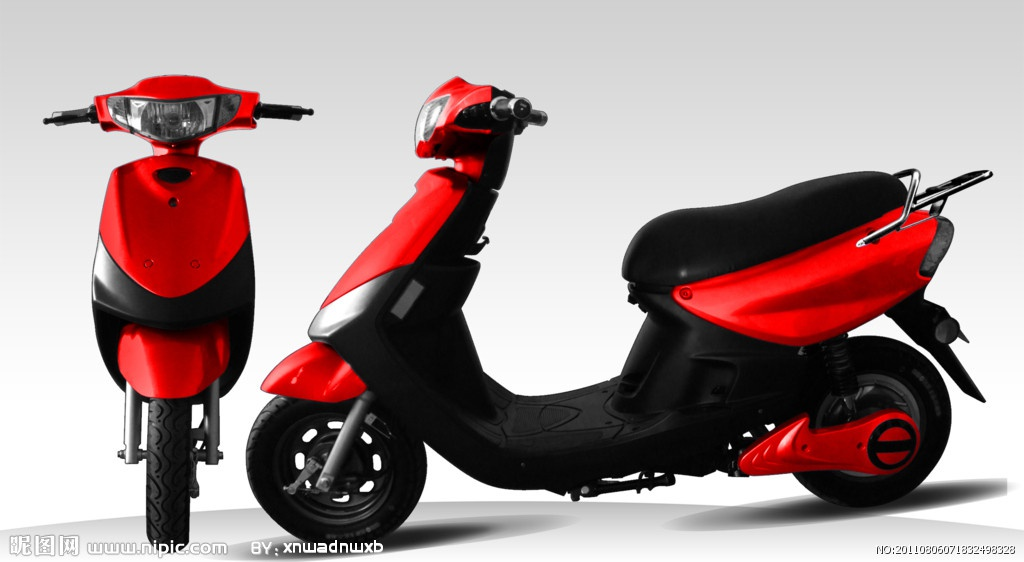non-vehicle: (247, 74, 993, 547), (48, 69, 246, 556)
